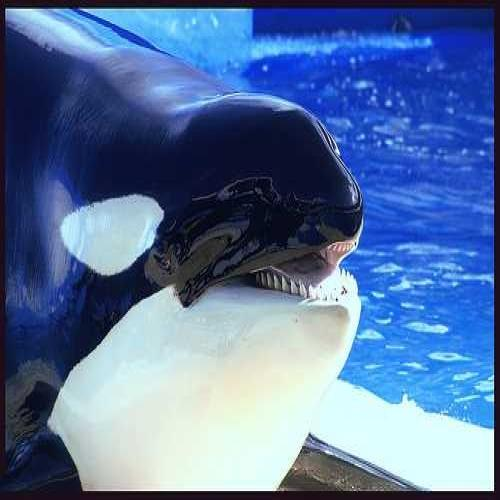killer_whale-endangered: (4, 4, 367, 500)
